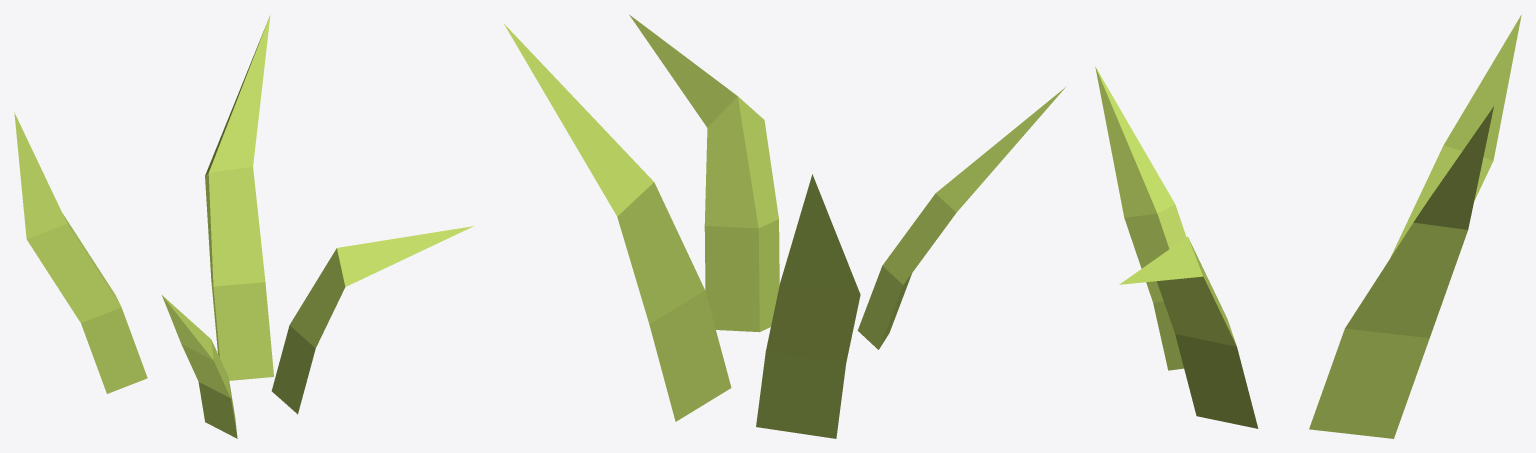
The model's file is Grass.fbx.
3 renders of one model, left to right at view 1: azimuth 30°, elevation 25°; view 2: azimuth 150°, elevation 25°; view 3: azimuth 270°, elevation 25°, orthographic. The views are drawn at different scales.
Visible parts, largest first — view 1: Grass_1; view 2: Grass_1; view 3: Grass_1.
Part boxes in pixels (x1,y1,x2,y2): Grass_1: (14, 15, 473, 438); Grass_1: (504, 14, 1066, 438); Grass_1: (1095, 15, 1521, 438).
Size of the model in its own units: 124 by 114 by 113.
